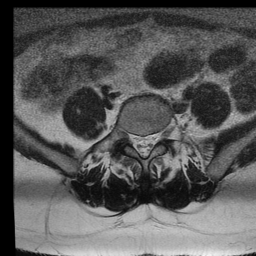CCS_normal: (139, 126, 148, 164)
LFS_normal: (155, 119, 165, 150)
LLS_normal: (148, 126, 156, 156)
RFS_normal: (122, 121, 131, 151)
RLS_normal: (131, 125, 139, 157)
